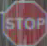Stop: (4, 2, 46, 42)
